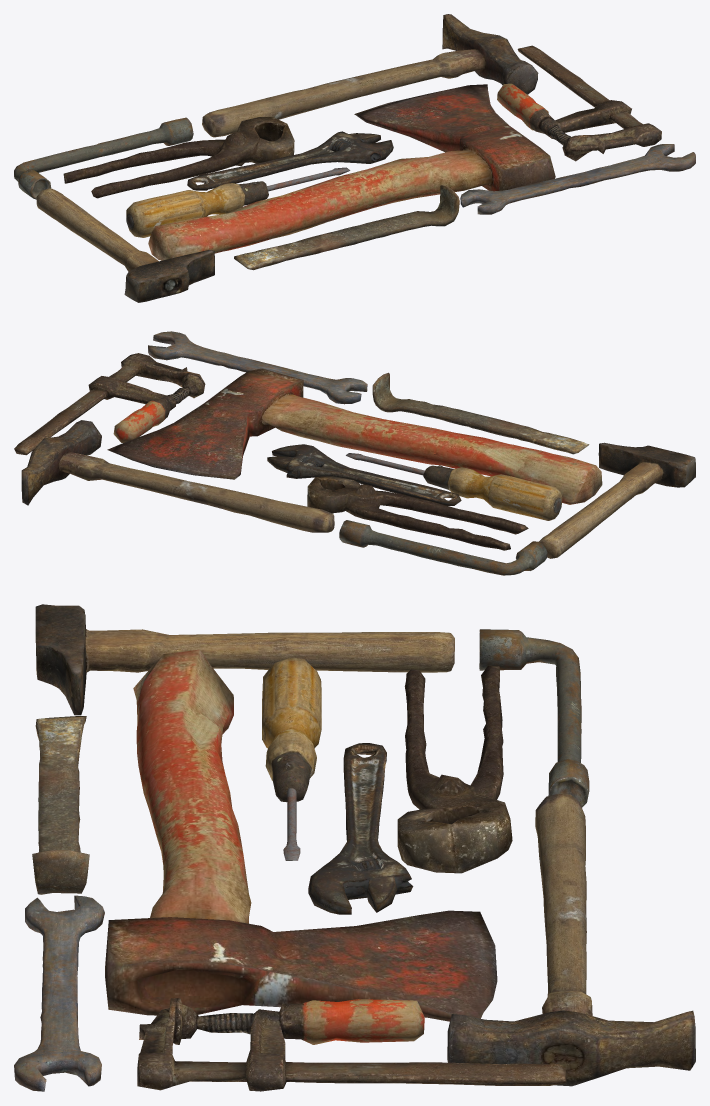
3 renders of one model, top to bottom at view 1: azimuth 30°, elevation 25°; view 2: azimuth 150°, elevation 25°; view 3: azimuth 270°, elevation 25°, orthographic. The views are drawn at different scales.
Visible parts, largest first — view 1: hatchet_lod3, hammer2_lod3, clamp_lod3, pliers_lod3, hammer1_lod3, screwdriver_lod3, prybar_lod3, wrench_lod3, adjustable_wrench_lod3, socket_wrench_lod3; view 2: hatchet_lod3, hammer2_lod3, clamp_lod3, pliers_lod3, hammer1_lod3, screwdriver_lod3, prybar_lod3, wrench_lod3, adjustable_wrench_lod3, socket_wrench_lod3; view 3: hatchet_lod3, hammer2_lod3, clamp_lod3, hammer1_lod3, pliers_lod3, wrench_lod3, adjustable_wrench_lod3, prybar_lod3, screwdriver_lod3, socket_wrench_lod3.
Boxes of the visible parts, x1,y1,x2,y2 form: hatchet_lod3: (148, 84, 555, 260); hammer2_lod3: (202, 14, 538, 137); clamp_lod3: (497, 45, 661, 161); pliers_lod3: (63, 117, 294, 198); hammer1_lod3: (36, 188, 214, 302); screwdriver_lod3: (126, 167, 350, 237); prybar_lod3: (234, 185, 459, 270); wrench_lod3: (460, 144, 695, 214); adjustable_wrench_lod3: (187, 131, 393, 190); socket_wrench_lod3: (14, 117, 193, 199); hatchet_lod3: (107, 368, 602, 504); hammer2_lod3: (21, 420, 334, 532); clamp_lod3: (14, 353, 205, 455); pliers_lod3: (307, 476, 528, 550); hammer1_lod3: (539, 442, 695, 558); screwdriver_lod3: (346, 453, 562, 520); prybar_lod3: (372, 372, 589, 454); wrench_lod3: (148, 331, 367, 404); adjustable_wrench_lod3: (267, 444, 461, 505); socket_wrench_lod3: (339, 520, 547, 575); hatchet_lod3: (105, 649, 497, 1021); hammer2_lod3: (447, 793, 695, 1086); clamp_lod3: (137, 998, 566, 1091); hammer1_lod3: (35, 604, 454, 715); pliers_lod3: (397, 665, 512, 873); wrench_lod3: (14, 895, 104, 1091); adjustable_wrench_lod3: (308, 743, 413, 914); prybar_lod3: (32, 716, 89, 894); screwdriver_lod3: (262, 657, 321, 860); socket_wrench_lod3: (479, 629, 589, 807).
Size of the model in its own units: 186 by 12.88 by 115.
10 materials, 10 textured.
